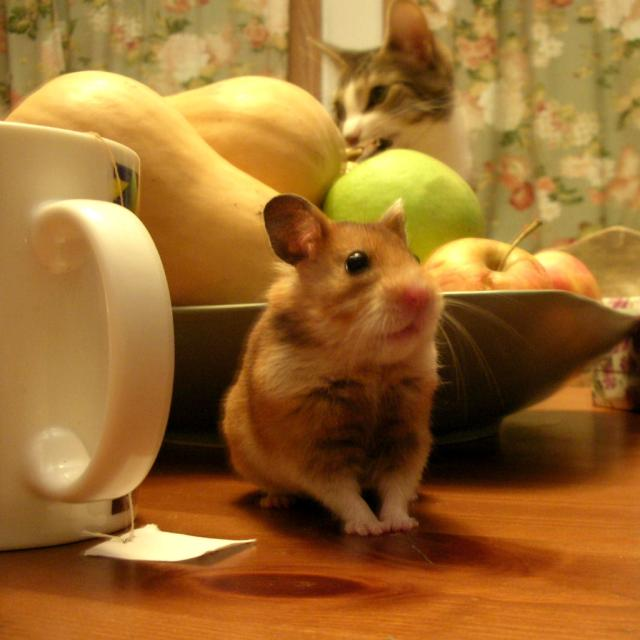Healty Apple: (323, 146, 487, 260), (422, 218, 552, 291), (534, 250, 605, 303)
